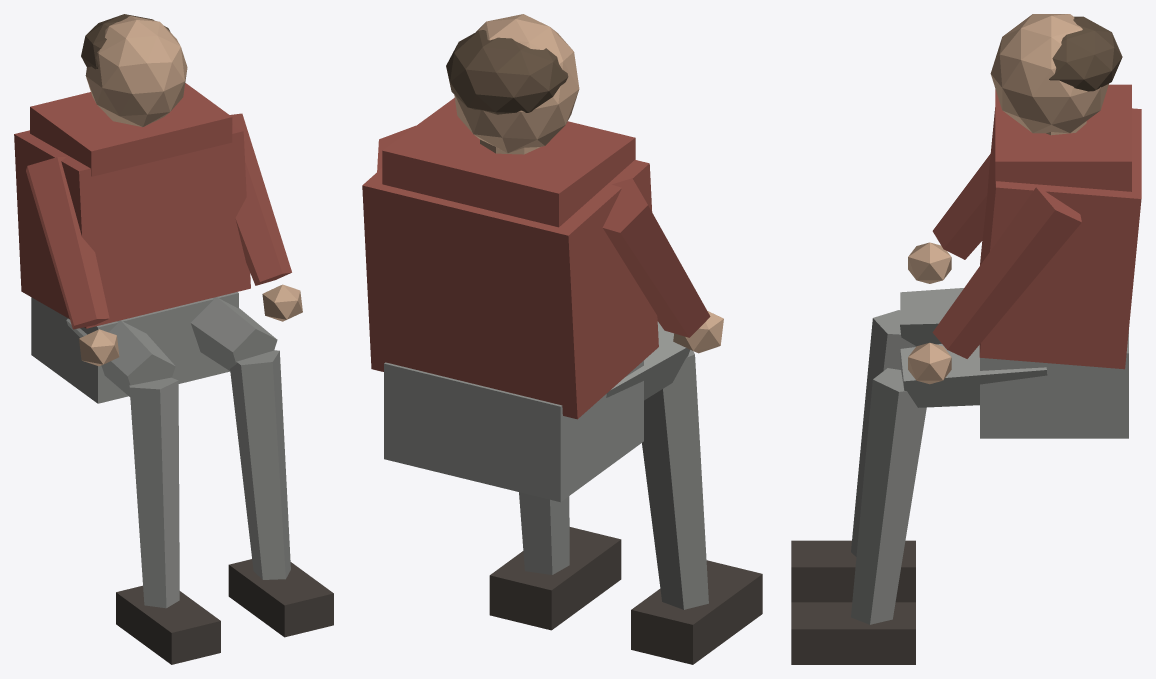
Rendered from spectator_seated_a.glb.
The picture shows the model from 3 angles, left to right: view 1: azimuth 30°, elevation 25°; view 2: azimuth 150°, elevation 25°; view 3: azimuth 270°, elevation 25°; orthographic projection. The views are drawn at different scales.
Visible parts, largest first — view 1: spectator_seated_a; view 2: spectator_seated_a; view 3: spectator_seated_a.
Boxes of the visible parts, x1,y1,x2,y2 form: spectator_seated_a: [14, 14, 333, 664]; spectator_seated_a: [362, 14, 762, 664]; spectator_seated_a: [791, 14, 1141, 664].
Size of the model in its own units: 0.4651 by 1.1 by 0.5756.
